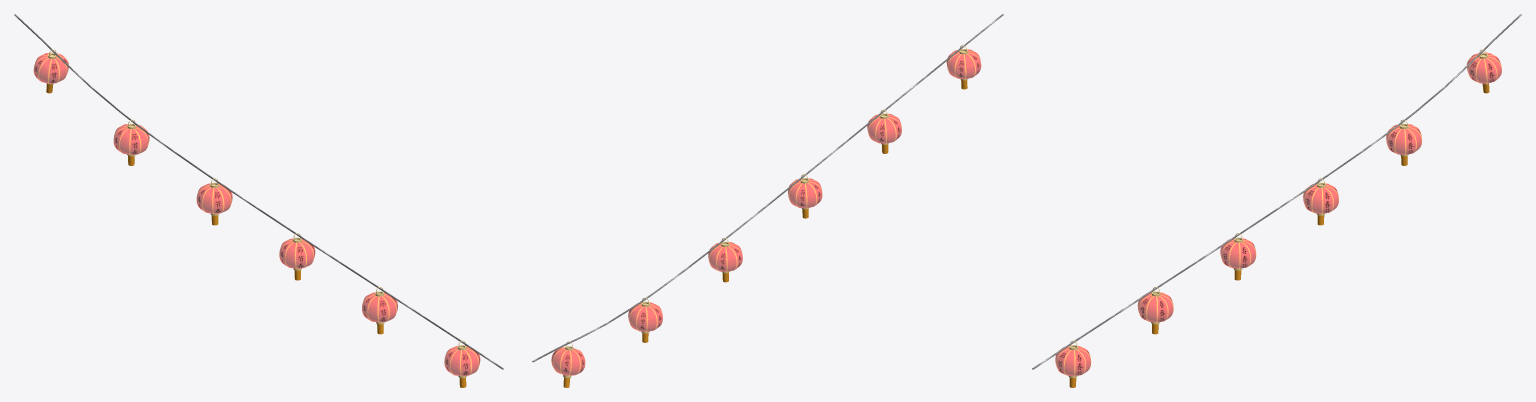
The model's file is SM_lamp_spline_Splines_12.fbx.
3 renders of one model, left to right at view 1: azimuth 30°, elevation 25°; view 2: azimuth 150°, elevation 25°; view 3: azimuth 330°, elevation 25°, orthographic. The views are drawn at different scales.
Visible parts, largest first — view 1: SM_lamp_spline_Splines_12; view 2: SM_lamp_spline_Splines_12; view 3: SM_lamp_spline_Splines_12.
Boxes of the visible parts, x1=… form: SM_lamp_spline_Splines_12: x1=14, y1=14, x2=503, y2=387; SM_lamp_spline_Splines_12: x1=532, y1=14, x2=1003, y2=387; SM_lamp_spline_Splines_12: x1=1032, y1=14, x2=1521, y2=387.
Size of the model in its own units: 53.35 by 1480 by 114.
